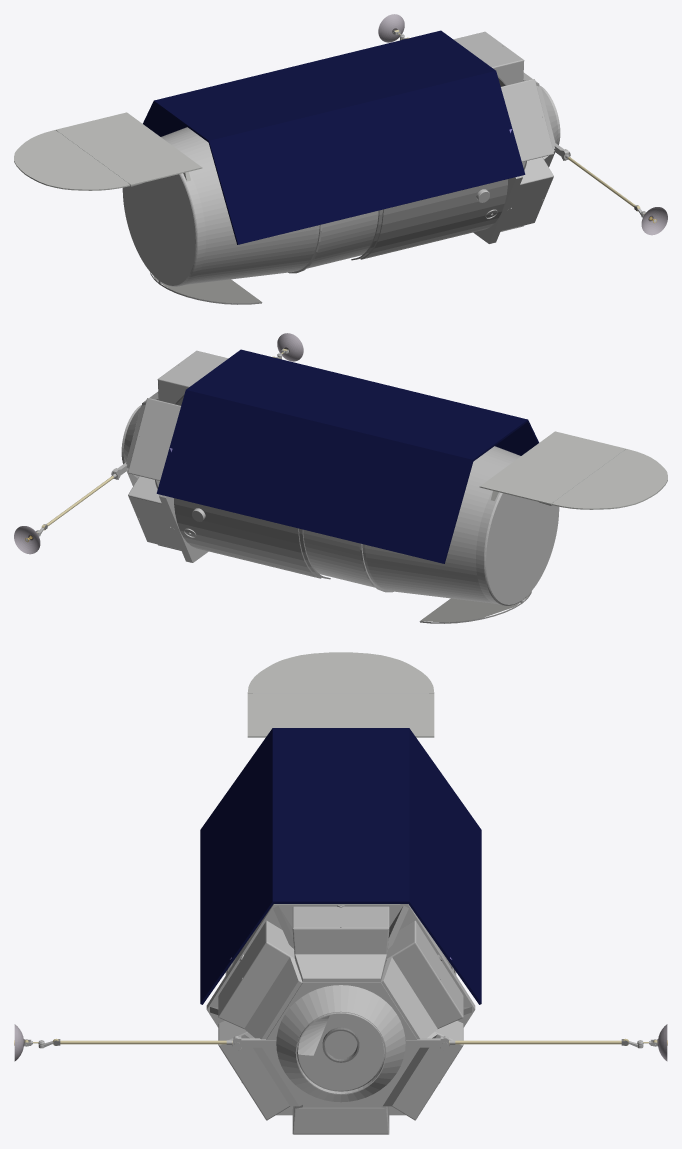
The model's file is nancy-grace-roman-space-telescope-b.glb.
The picture shows the model from 3 angles, top to bottom: view 1: azimuth 30°, elevation 25°; view 2: azimuth 150°, elevation 25°; view 3: azimuth 270°, elevation 25°; orthographic projection. The views are drawn at different scales.
Visible parts, largest first — view 1: Wfirst-maintube; view 2: Wfirst-maintube; view 3: Wfirst-maintube.
Boxes of the visible parts, x1,y1,x2,y2 form: Wfirst-maintube: [14, 14, 667, 304]; Wfirst-maintube: [14, 333, 667, 623]; Wfirst-maintube: [14, 652, 667, 1134].
Size of the model in its own units: 412 by 131 by 364.
2 materials, 2 textured.
